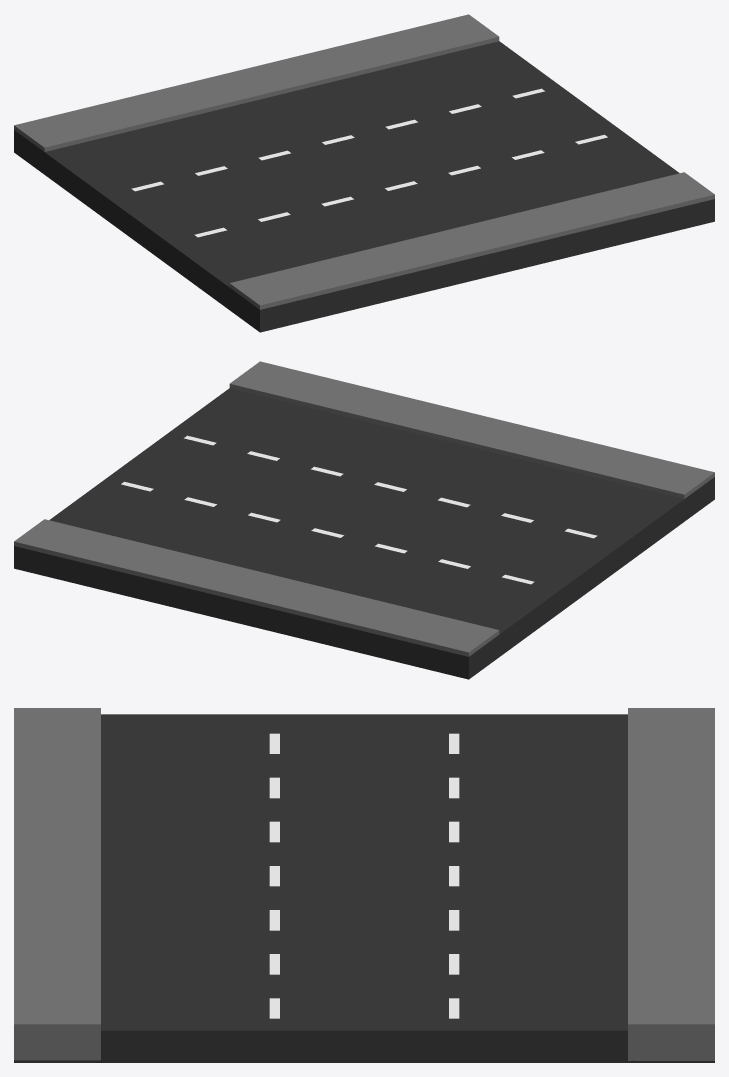
The model's file is Cargo_Road_3_Seritli_21-5M.fbx.
3 views of the same model, one above another, from view 1: azimuth 30°, elevation 25°; view 2: azimuth 150°, elevation 25°; view 3: azimuth 270°, elevation 25° (orthographic). The views are drawn at different scales.
Parts seen in each view (by area): view 1: Cargo_Road_3_Seritli_21_5m_Dikey; view 2: Cargo_Road_3_Seritli_21_5m_Dikey; view 3: Cargo_Road_3_Seritli_21_5m_Dikey.
Boxes of the visible parts, x1=… form: Cargo_Road_3_Seritli_21_5m_Dikey: x1=14, y1=14, x2=714, y2=332; Cargo_Road_3_Seritli_21_5m_Dikey: x1=14, y1=361, x2=714, y2=679; Cargo_Road_3_Seritli_21_5m_Dikey: x1=14, y1=708, x2=714, y2=1062.
Bounding box in the file's own units: 2150 × 123 × 2015.
